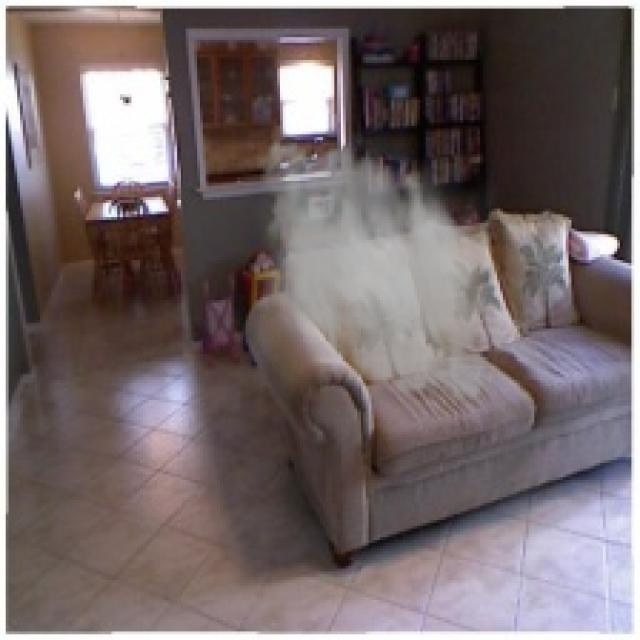smoke: (237, 128, 506, 412)
